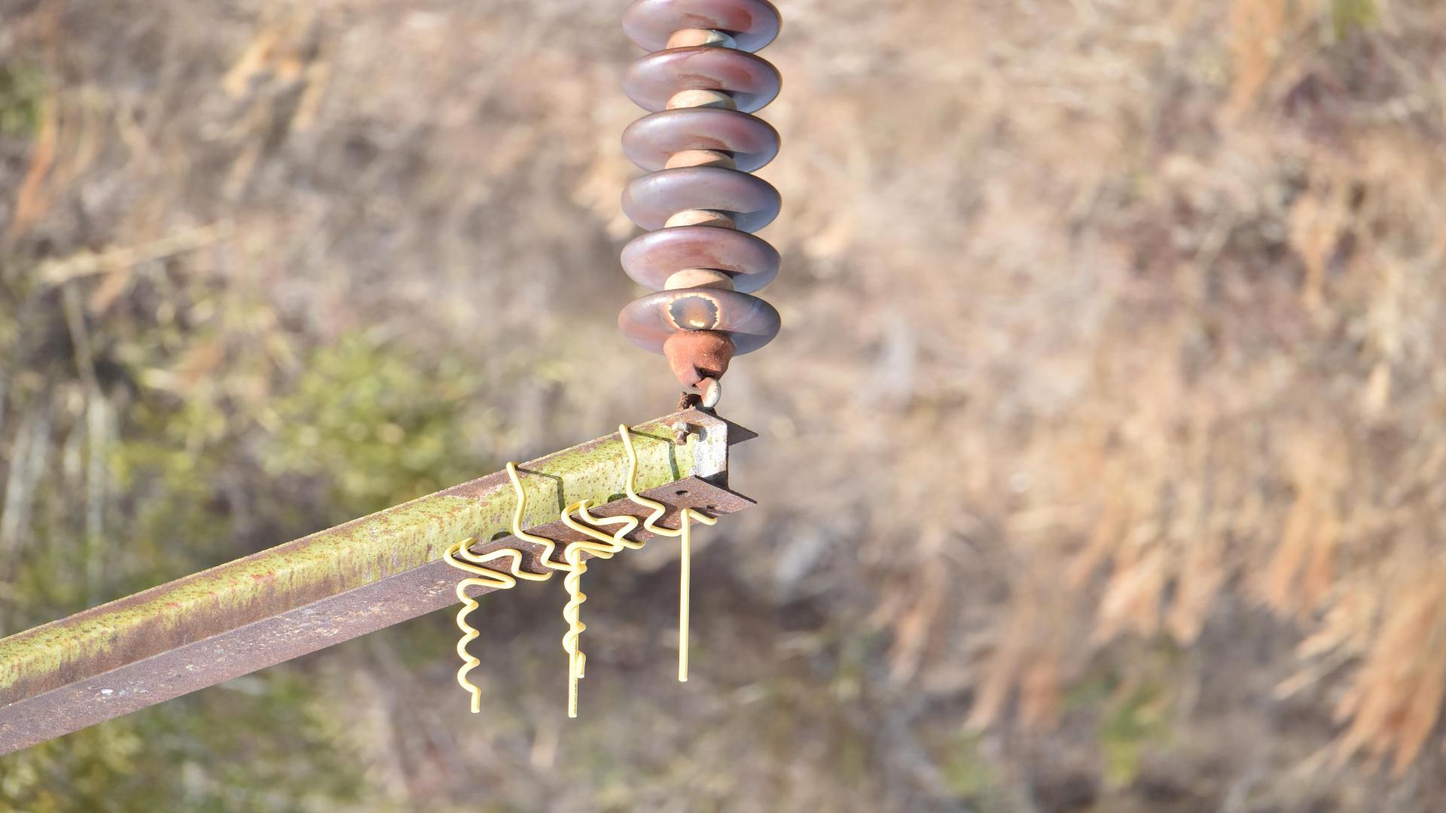insulator: (613, 1, 786, 358)
insulator_flashover: (667, 291, 722, 330)
